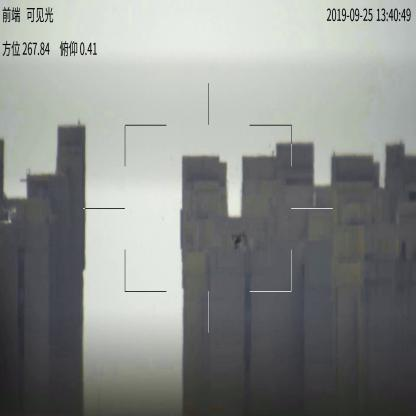uav: (230, 229, 247, 249)
